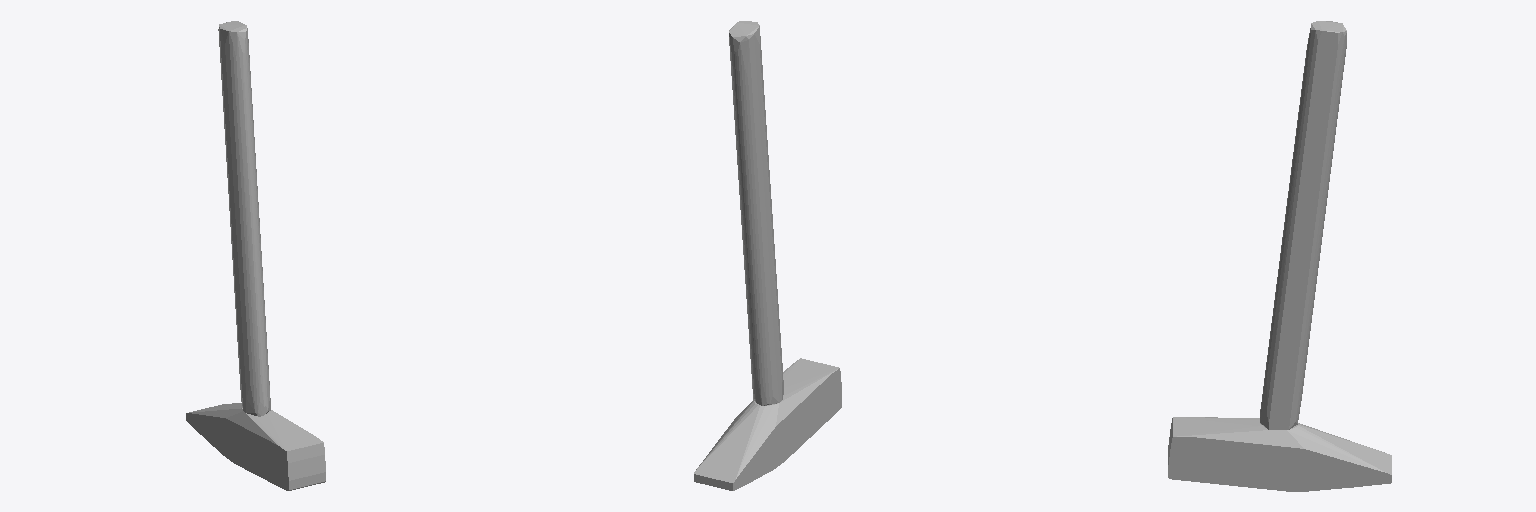
robot.urdf — root:
<robot name="root">
  <link name="link_3c80c41399d2c92334fb047a3245866d_convex_piece_0">
    <inertial>
      <origin rpy="0 0 0" xyz="0 0 0"/>
      <mass value="-1.29E-06"/>
      <inertia ixx="7.01E-09" ixy="-5.23E-11" ixz="3.14E-10" iyy="6.91E-09" iyz="-1.75E-09" izz="9.71E-11"/>
    </inertial>
    <visual>
      <origin rpy="0 0 0" xyz="0 0 0"/>
      <geometry>
        <mesh filename="3c80c41399d2c92334fb047a3245866d_convex_piece_0.obj" scale="1.0000E+00"/>
      </geometry>
      <material name="">
        <color rgba="7.50E-01 7.50E-01 7.50E-01 1"/>
      </material>
    </visual>
    <collision>
      <origin rpy="0 0 0" xyz="0 0 0"/>
      <geometry>
        <mesh filename="3c80c41399d2c92334fb047a3245866d_convex_piece_0.obj" scale="1.0000E+00"/>
      </geometry>
    </collision>
  </link>
  <link name="link_3c80c41399d2c92334fb047a3245866d_convex_piece_1">
    <inertial>
      <origin rpy="0 0 0" xyz="0 0 0"/>
      <mass value="-1.03E-06"/>
      <inertia ixx="7.06E-09" ixy="-4.16E-11" ixz="2.48E-10" iyy="6.88E-09" iyz="-1.39E-09" izz="1.87E-10"/>
    </inertial>
    <visual>
      <origin rpy="0 0 0" xyz="0 0 0"/>
      <geometry>
        <mesh filename="3c80c41399d2c92334fb047a3245866d_convex_piece_1.obj" scale="1.0000E+00"/>
      </geometry>
      <material name="">
        <color rgba="7.50E-01 7.50E-01 7.50E-01 1"/>
      </material>
    </visual>
    <collision>
      <origin rpy="0 0 0" xyz="0 0 0"/>
      <geometry>
        <mesh filename="3c80c41399d2c92334fb047a3245866d_convex_piece_1.obj" scale="1.0000E+00"/>
      </geometry>
    </collision>
  </link>
  <joint name="link_3c80c41399d2c92334fb047a3245866d_convex_piece_1_joint" type="fixed">
    <origin rpy="0 0 0" xyz="0 0 0"/>
    <parent link="link_3c80c41399d2c92334fb047a3245866d_convex_piece_0"/>
    <child link="link_3c80c41399d2c92334fb047a3245866d_convex_piece_1"/>
  </joint>
</robot>

--- Facts derived from the render (not from the file) ---
The picture shows the robot from 3 angles, left to right: view 1: azimuth 30°, elevation 25°; view 2: azimuth 150°, elevation 25°; view 3: azimuth 270°, elevation 25°; orthographic projection.
Model root with 2 links and 1 joints (1 fixed), rooted at link_3c80c41399d2c92334fb047a3245866d_convex_piece_0, posed all joints at 0.
Links seen in each view (by area): view 1: link_3c80c41399d2c92334fb047a3245866d_convex_piece_1, link_3c80c41399d2c92334fb047a3245866d_convex_piece_0; view 2: link_3c80c41399d2c92334fb047a3245866d_convex_piece_1, link_3c80c41399d2c92334fb047a3245866d_convex_piece_0; view 3: link_3c80c41399d2c92334fb047a3245866d_convex_piece_1, link_3c80c41399d2c92334fb047a3245866d_convex_piece_0.
Boxes of the visible links, x1,y1,x2,y2 form: link_3c80c41399d2c92334fb047a3245866d_convex_piece_1: [218, 21, 270, 416]; link_3c80c41399d2c92334fb047a3245866d_convex_piece_0: [186, 403, 325, 490]; link_3c80c41399d2c92334fb047a3245866d_convex_piece_1: [729, 21, 783, 405]; link_3c80c41399d2c92334fb047a3245866d_convex_piece_0: [694, 358, 841, 490]; link_3c80c41399d2c92334fb047a3245866d_convex_piece_1: [1260, 21, 1346, 429]; link_3c80c41399d2c92334fb047a3245866d_convex_piece_0: [1168, 417, 1391, 491].
Bounding box of the posed robot: 0.0095 × 0.0453 × 0.1019 m (x, y, z).
Meshes: 2 distinct files referenced, 2 mesh visuals loaded (2 OBJ).